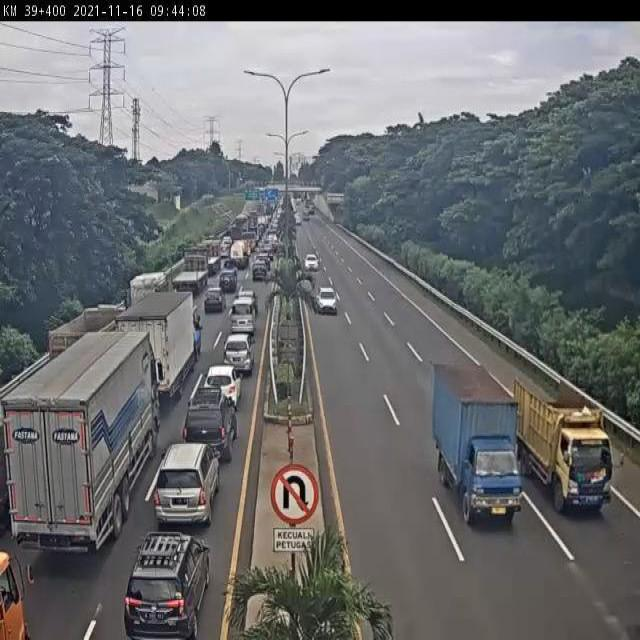car: (123, 520, 226, 640), (144, 420, 208, 528), (179, 373, 233, 467), (218, 333, 260, 384), (205, 352, 236, 415), (232, 298, 265, 338), (317, 284, 343, 316), (304, 246, 327, 282), (201, 287, 232, 312), (220, 267, 243, 297), (251, 259, 271, 284)
small truck: (515, 377, 625, 523)
truck-l-: (3, 332, 164, 556), (172, 245, 209, 295), (192, 236, 222, 273)
truck-m-: (432, 361, 525, 531), (48, 300, 141, 399), (118, 292, 203, 399), (130, 260, 171, 307)
